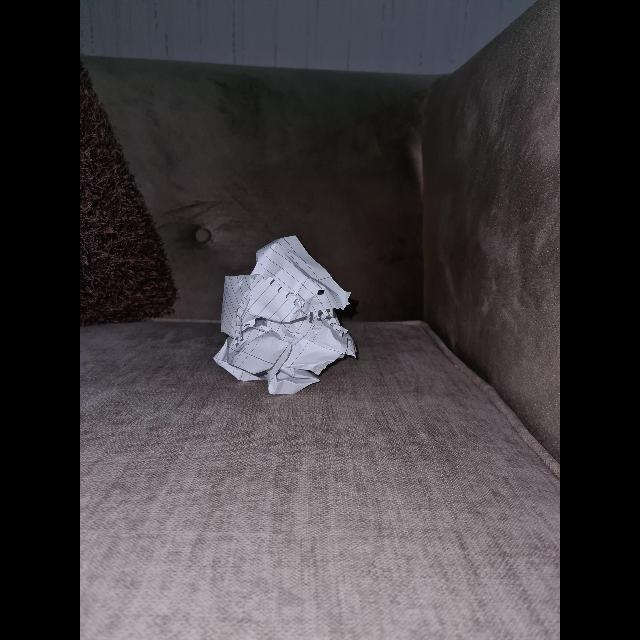scrap_paper: (212, 237, 358, 399)
